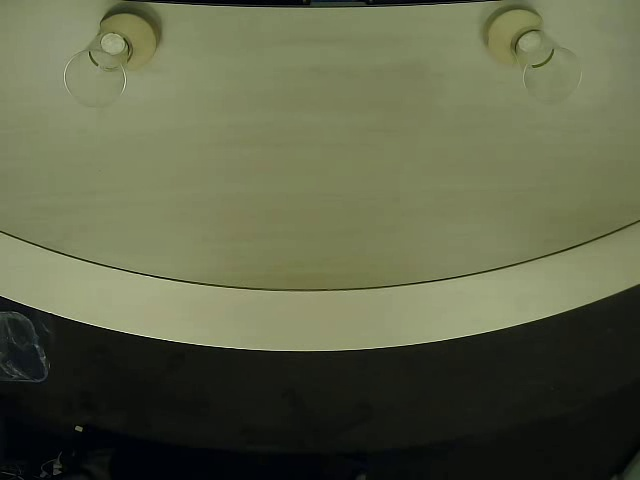Cup: (510, 26, 583, 109), (63, 31, 130, 113)
Deliver: (95, 6, 162, 73), (483, 6, 542, 73)
